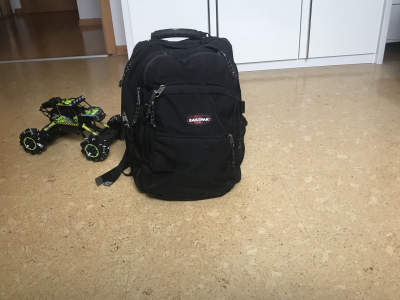remote control car: (19, 94, 126, 163)
